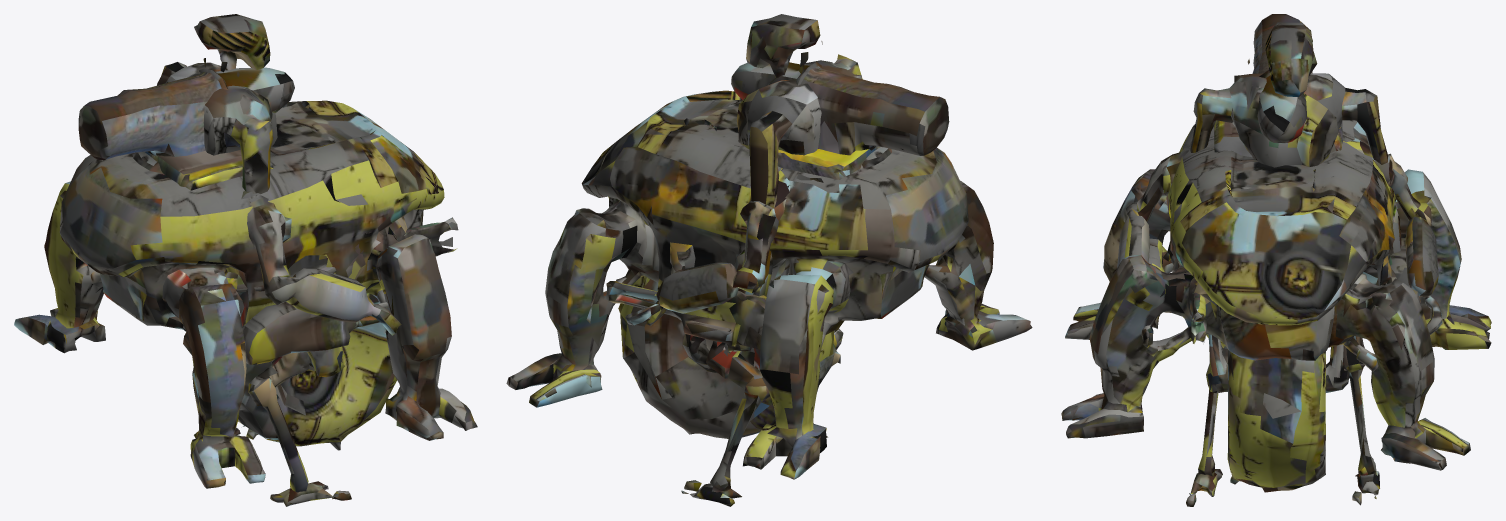
The model's file is modelo+3d+de+robot.fbx.
The picture shows the model from 3 angles, left to right: view 1: azimuth 30°, elevation 25°; view 2: azimuth 150°, elevation 25°; view 3: azimuth 270°, elevation 25°; orthographic projection. The views are drawn at different scales.
Visible parts, largest first — view 1: tripo_node_547b1e5b.001, tripo_node_547b1e5b.004, tripo_node_547b1e5b.002, tripo_node_547b1e5b.003; view 2: tripo_node_547b1e5b.001, tripo_node_547b1e5b.004, tripo_node_547b1e5b.002, tripo_node_547b1e5b.003; view 3: tripo_node_547b1e5b.001, tripo_node_547b1e5b.004, tripo_node_547b1e5b.002, tripo_node_547b1e5b.003.
Boxes of the visible parts, x1,y1,x2,y2 form: tripo_node_547b1e5b.001: (14, 67, 477, 488); tripo_node_547b1e5b.004: (145, 149, 401, 450); tripo_node_547b1e5b.002: (157, 14, 458, 506); tripo_node_547b1e5b.003: (225, 255, 388, 364); tripo_node_547b1e5b.001: (506, 62, 1032, 479); tripo_node_547b1e5b.004: (618, 146, 879, 438); tripo_node_547b1e5b.002: (681, 14, 862, 506); tripo_node_547b1e5b.003: (604, 273, 844, 349); tripo_node_547b1e5b.001: (1061, 14, 1491, 470); tripo_node_547b1e5b.004: (1117, 120, 1442, 492); tripo_node_547b1e5b.002: (1178, 22, 1401, 506); tripo_node_547b1e5b.003: (1141, 238, 1420, 348).
Bounding box in the file's own units: 37.82 × 46.67 × 41.18.
